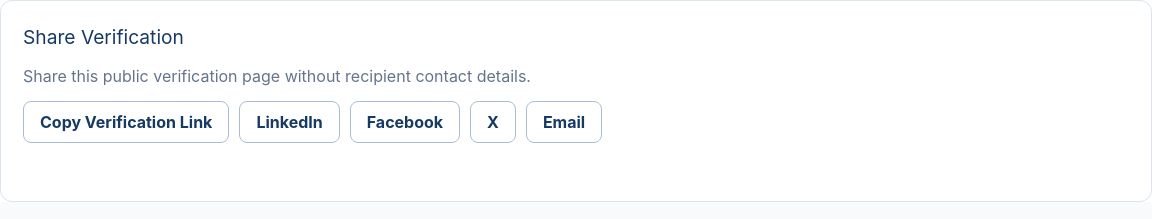
Test case: ShareControls › announces clipboard success
Click the button "Copy Verification Link" at (126, 122), box [23,101,229,143]
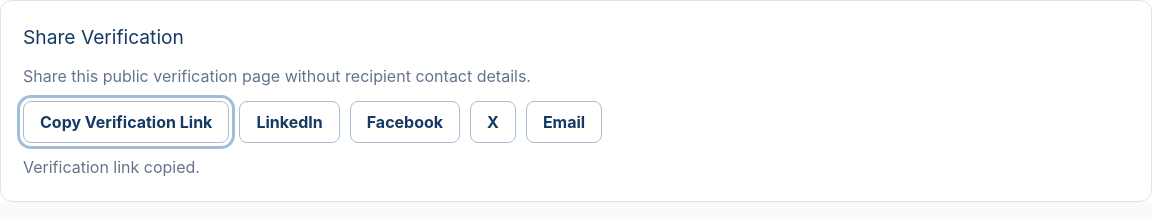
Expected: the message shows "Verification link copied", [23,157,200,177]
